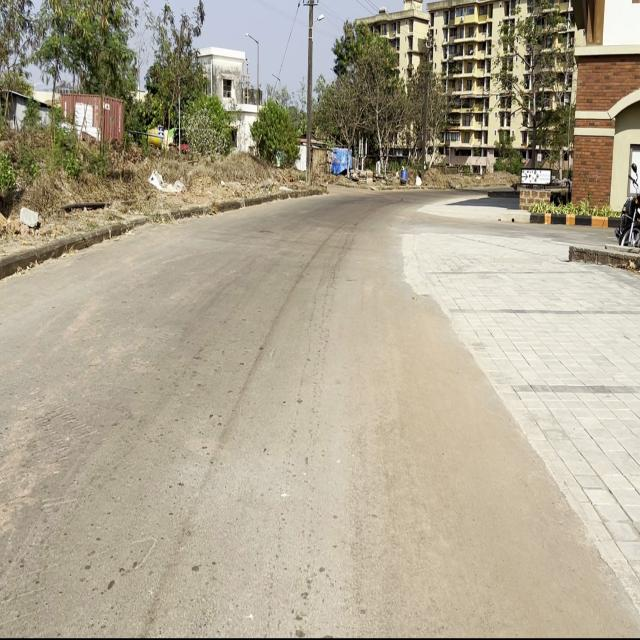Road: (0, 192, 639, 638)
